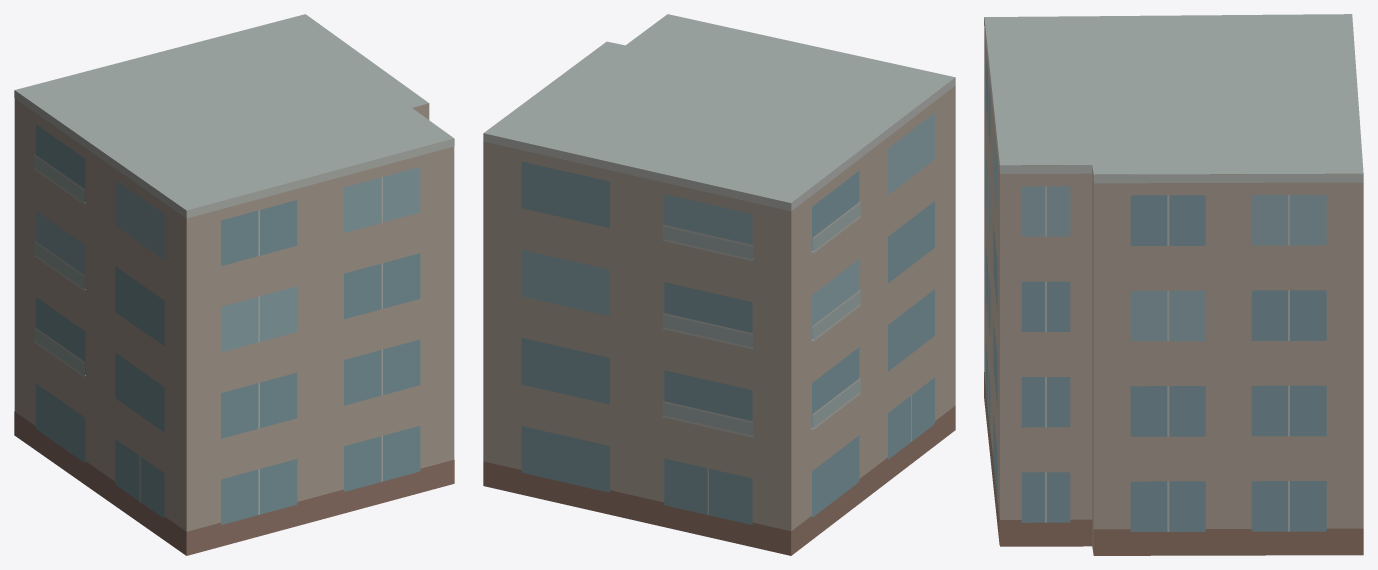
The model's file is survey-upis-32675458.glb.
3 renders of one model, left to right at view 1: azimuth 30°, elevation 25°; view 2: azimuth 150°, elevation 25°; view 3: azimuth 270°, elevation 25°, orthographic. The views are drawn at different scales.
Parts seen in each view (by area): view 1: survey-upis-32675458.tmp; view 2: survey-upis-32675458.tmp; view 3: survey-upis-32675458.tmp.
Part boxes in pixels (x1,y1,x2,y2): survey-upis-32675458.tmp: [14, 14, 454, 555]; survey-upis-32675458.tmp: [483, 14, 955, 555]; survey-upis-32675458.tmp: [984, 14, 1363, 555].
Size of the model in its own units: 9.49 by 10.5 by 9.47.
